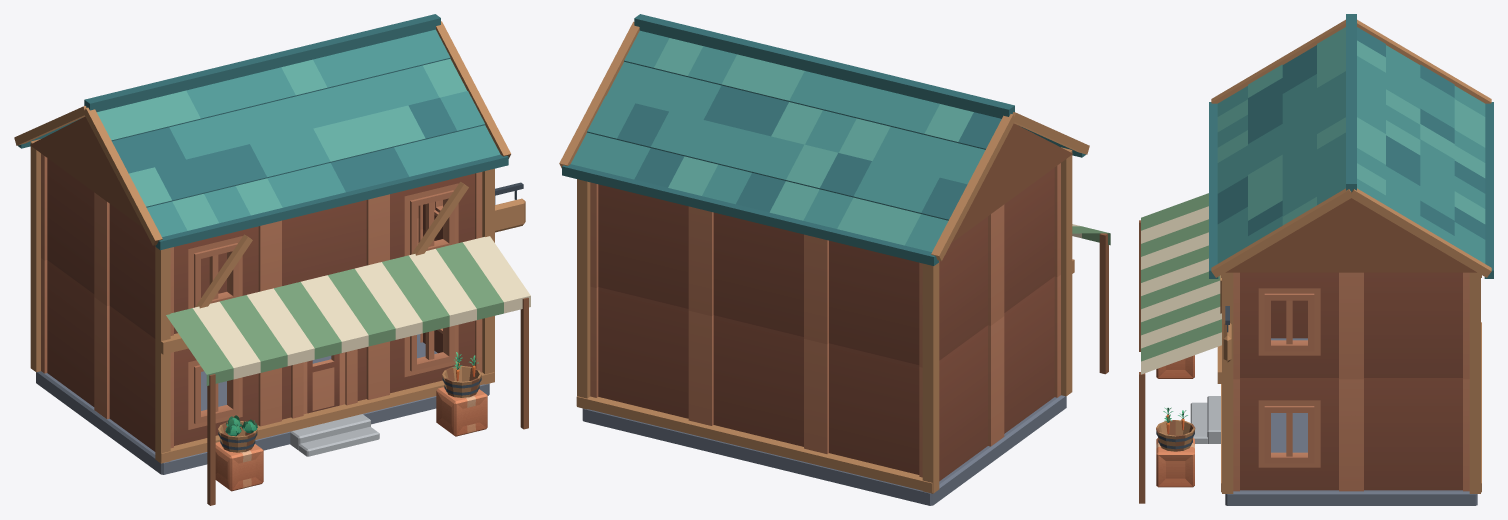
Rendered from shop_general.glb.
3 renders of one model, left to right at view 1: azimuth 30°, elevation 25°; view 2: azimuth 150°, elevation 25°; view 3: azimuth 270°, elevation 25°, orthographic. The views are drawn at different scales.
Parts seen in each view (by area): view 1: shop_general_建筑共用调色板, shop_general_fantasy-town-kit 调色板, shop_general_survival-kit 调色板, shop_general_food-kit 调色板; view 2: shop_general_建筑共用调色板, shop_general_fantasy-town-kit 调色板; view 3: shop_general_建筑共用调色板, shop_general_fantasy-town-kit 调色板, shop_general_survival-kit 调色板.
Boxes of the visible parts, x1=… form: shop_general_建筑共用调色板: x1=14, y1=14, x2=530, y2=505; shop_general_fantasy-town-kit 调色板: x1=41, y1=153, x2=482, y2=451; shop_general_survival-kit 调色板: x1=215, y1=387, x2=487, y2=491; shop_general_food-kit 调色板: x1=225, y1=352, x2=478, y2=436; shop_general_建筑共用调色板: x1=559, y1=14, x2=1110, y2=505; shop_general_fantasy-town-kit 调色板: x1=590, y1=163, x2=1060, y2=481; shop_general_建筑共用调色板: x1=1139, y1=14, x2=1493, y2=505; shop_general_fantasy-town-kit 调色板: x1=1233, y1=272, x2=1469, y2=491; shop_general_survival-kit 调色板: x1=1156, y1=355, x2=1194, y2=487.
Bounding box in the file's own units: 7 × 5.84 × 5.73.
Materials: 4 (4 with a texture image).
